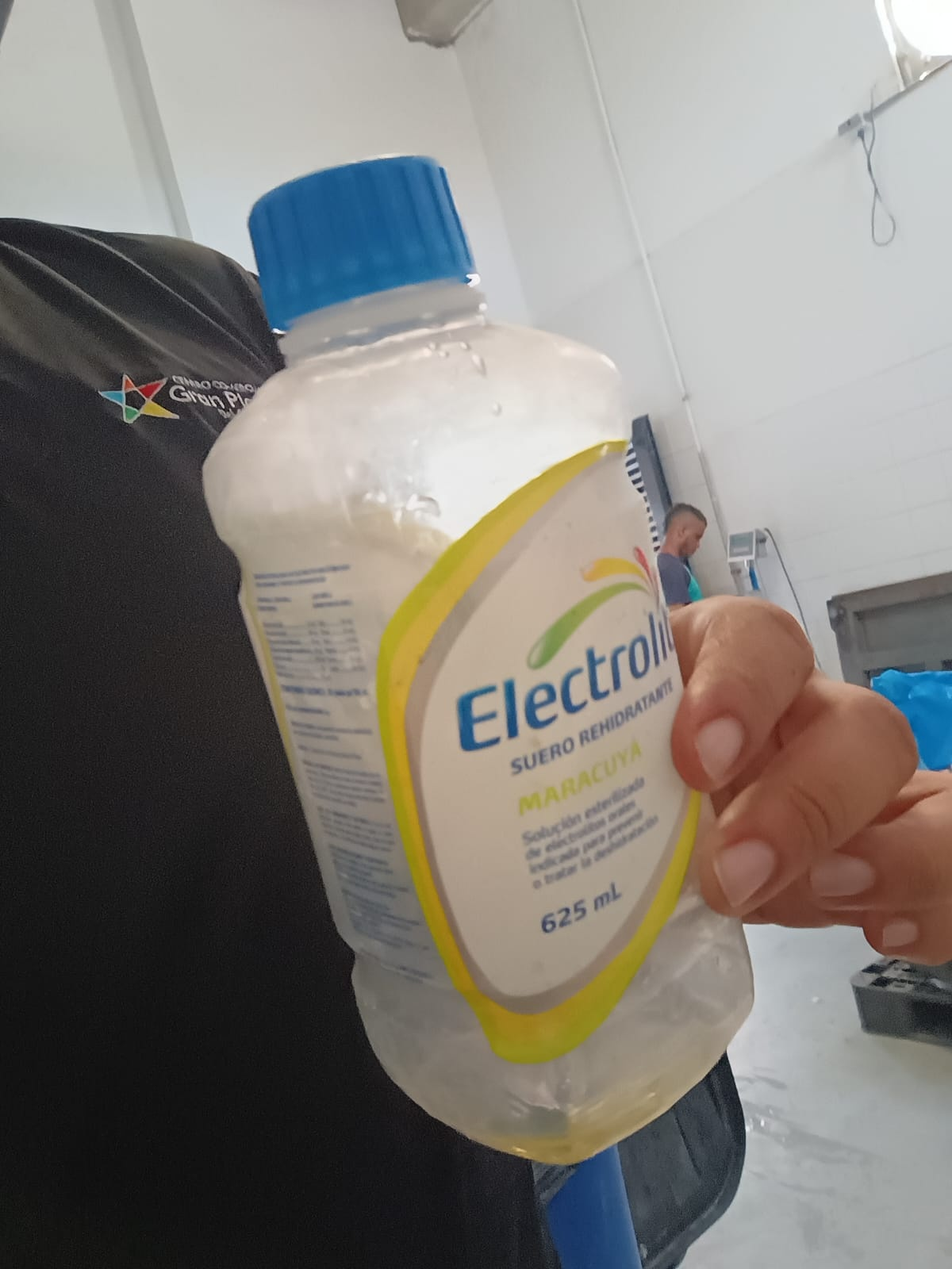Plastico: (202, 152, 758, 1168)
